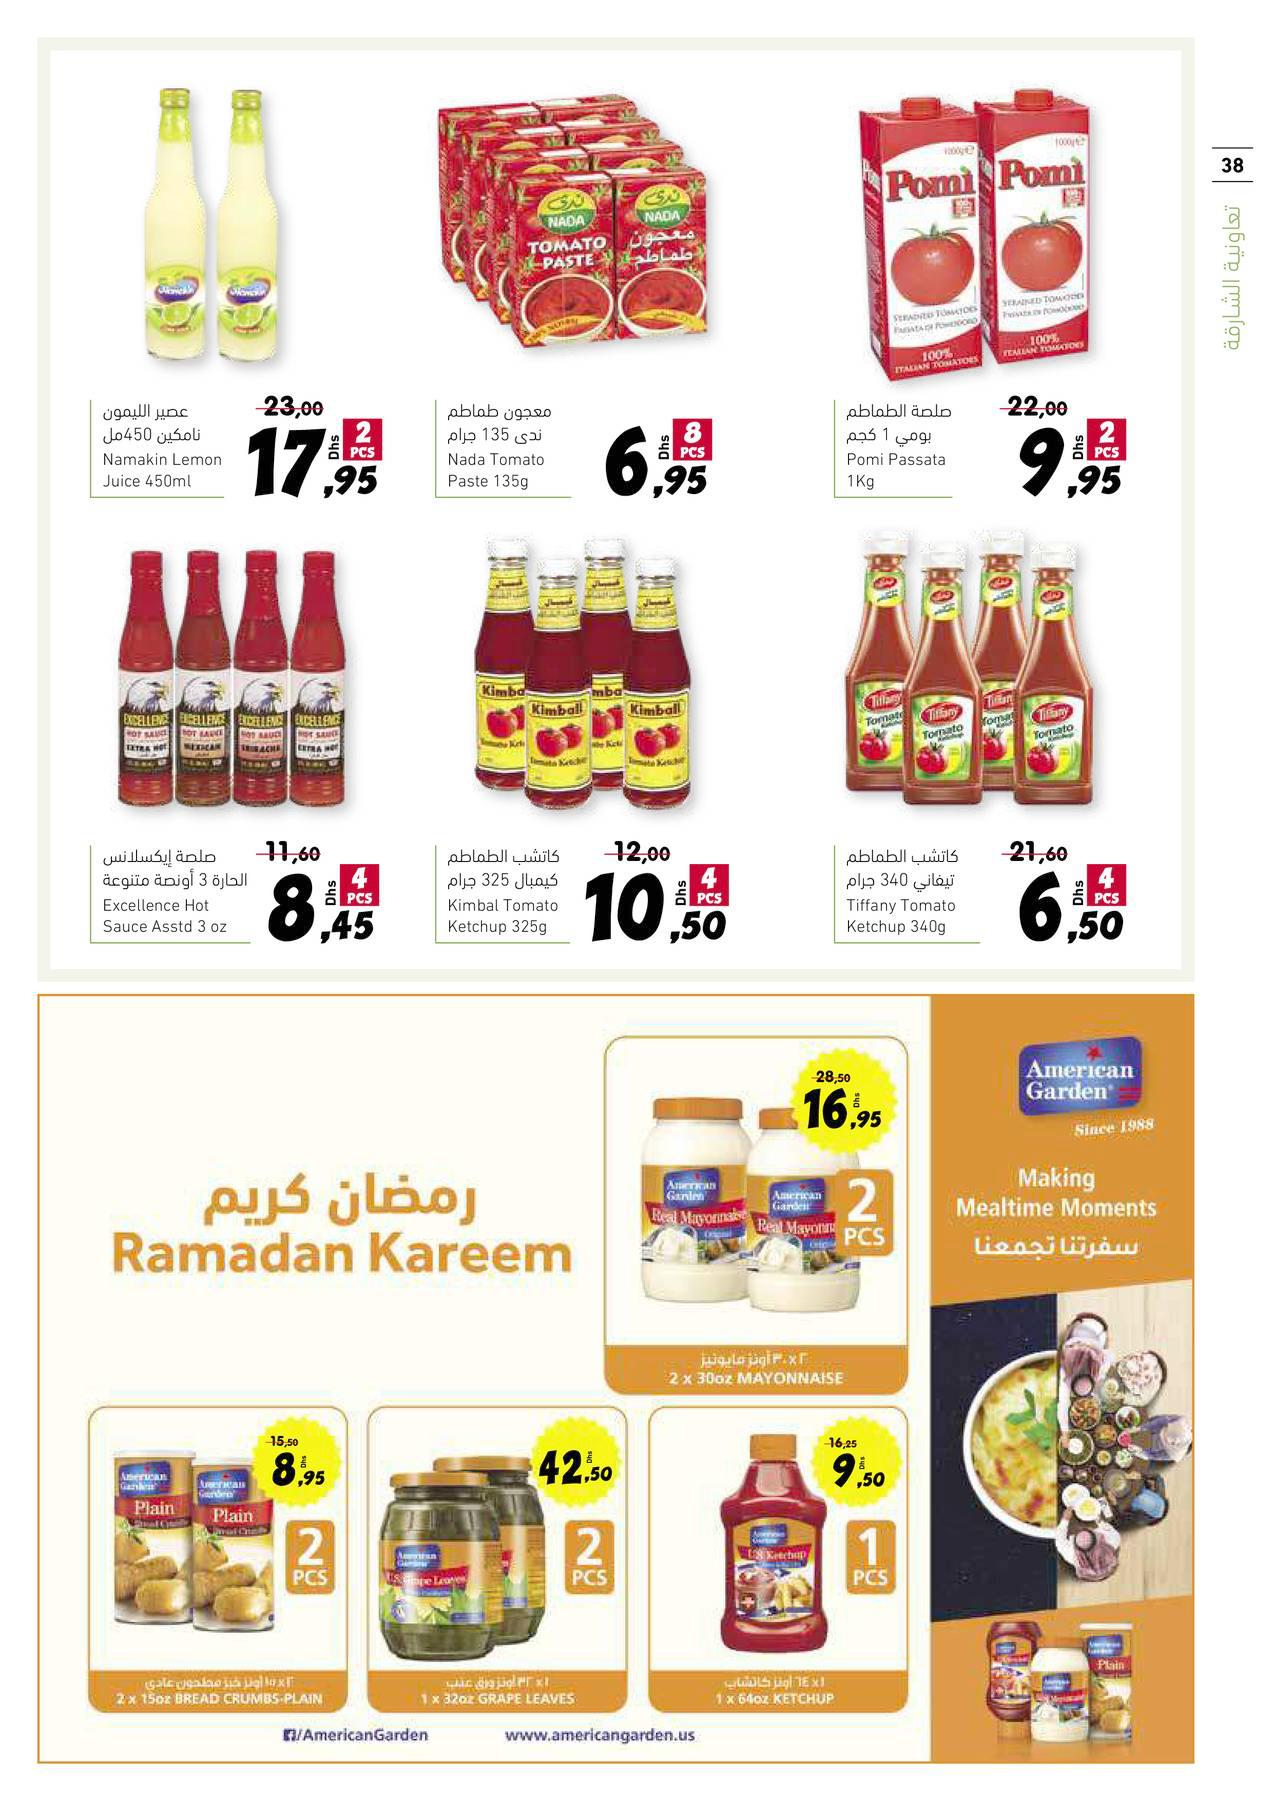text: (942, 1151, 1170, 1273), (96, 837, 252, 939), (96, 394, 238, 497), (439, 835, 577, 938), (840, 837, 975, 942), (441, 395, 566, 494), (836, 397, 966, 492), (409, 1655, 602, 1717), (659, 1341, 856, 1392), (700, 1665, 846, 1713)
